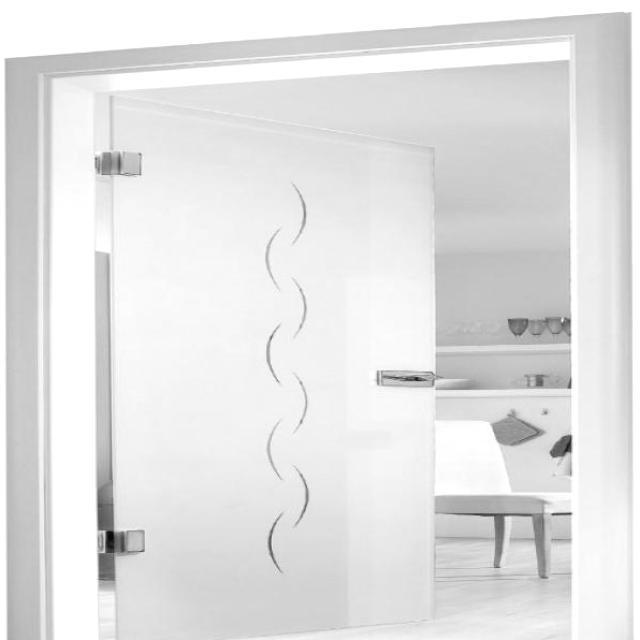door: (104, 93, 437, 638)
